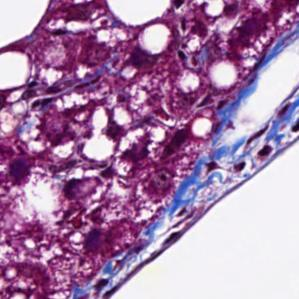inflammation: (194, 127, 274, 181), (165, 0, 203, 63)
